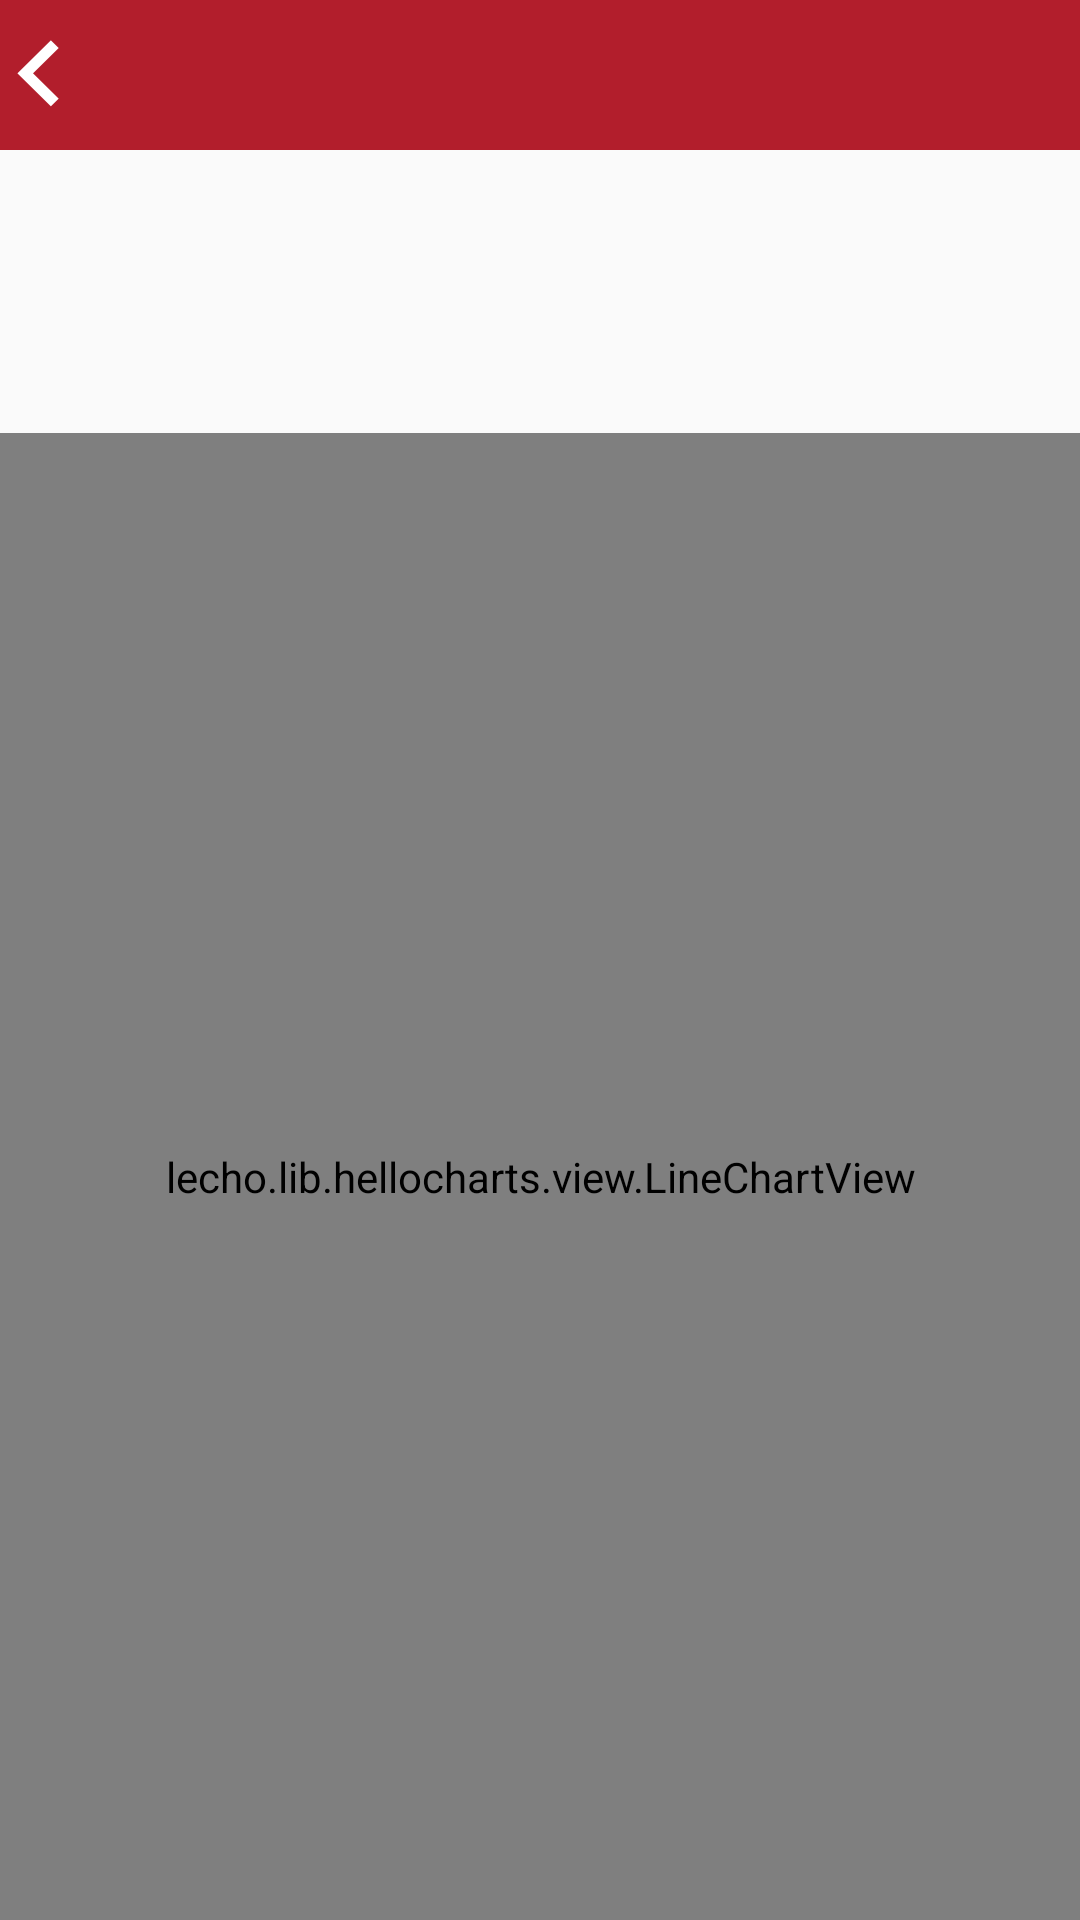

Icons on this 1080 x 1920 Android screen, each with the point to tap as [x,y]:
back: [38,73]
